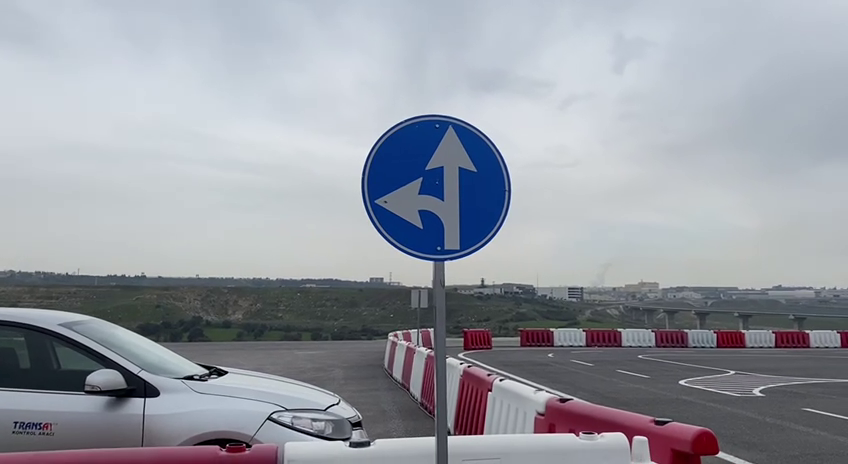forwardAndLeft: (356, 109, 520, 267)
